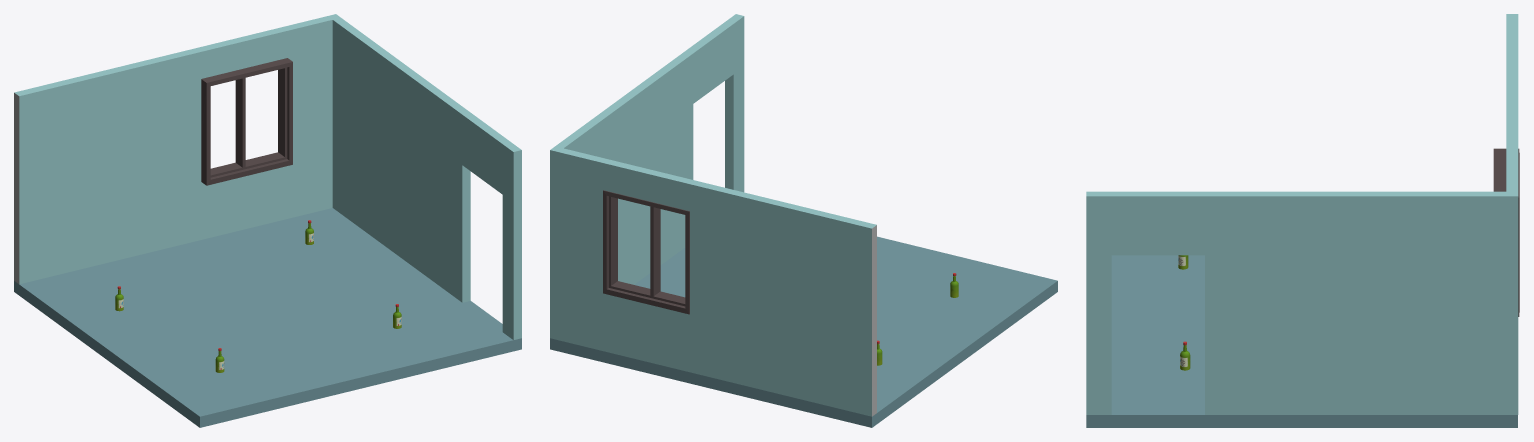
Rendered from map_dummy_2.fbx.
3 renders of one model, left to right at view 1: azimuth 30°, elevation 25°; view 2: azimuth 150°, elevation 25°; view 3: azimuth 270°, elevation 25°, orthographic. The views are drawn at different scales.
Visible parts, largest first — view 1: WALL, Plane.005, Plane.013; view 2: WALL, Plane.005, Plane.013; view 3: WALL, Plane.005, Plane.013.
Part boxes in pixels (x1,y1,x2,y2): WALL: (14,14,521,340); Plane.005: (14,208,521,427); Plane.013: (201,58,292,185); WALL: (550,14,876,416); Plane.005: (550,236,1057,427); Plane.013: (603,190,689,314); WALL: (1086,14,1518,414); Plane.005: (1086,255,1517,427); Plane.013: (1493,148,1519,316).
Bounding box in the file's own units: 600 × 355 × 602.
